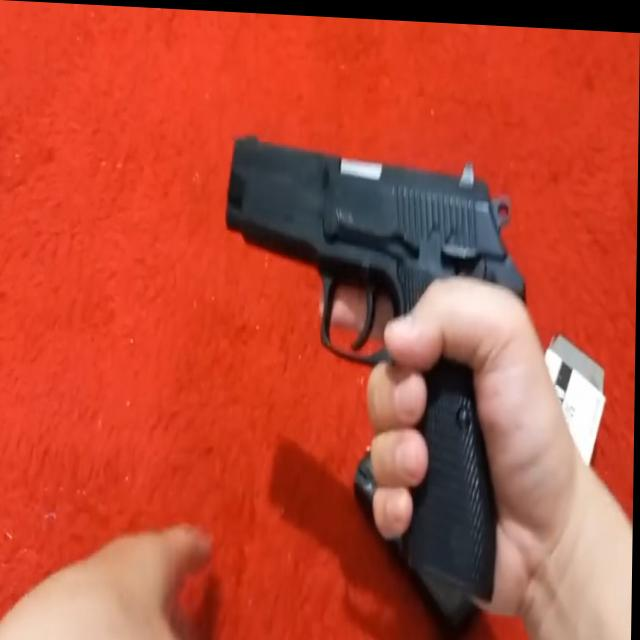handgun: (219, 108, 515, 608)
